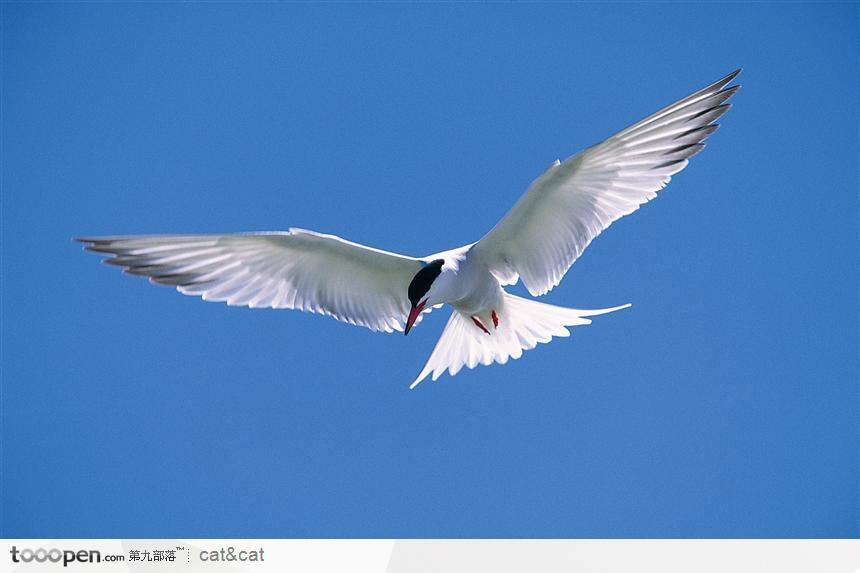bird: (66, 64, 748, 372)
